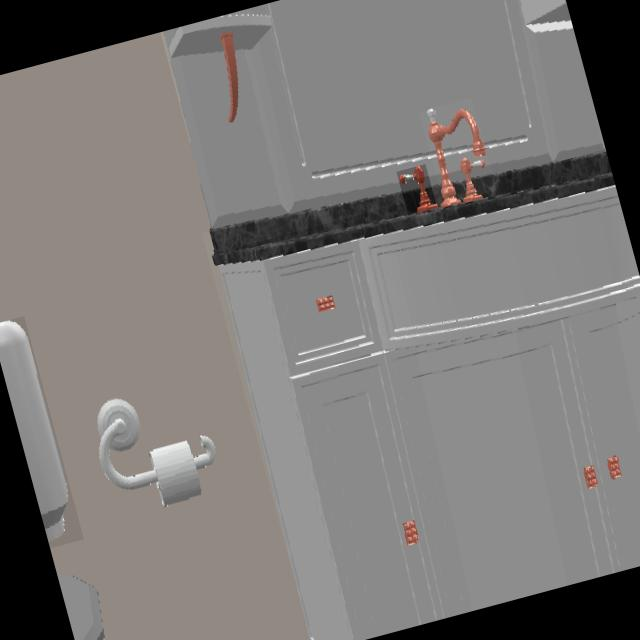cabinet: (211, 153, 640, 640), (163, 0, 604, 230)
sink: (427, 109, 486, 200), (399, 166, 436, 212)
toilet: (0, 323, 71, 547), (57, 574, 106, 640)
